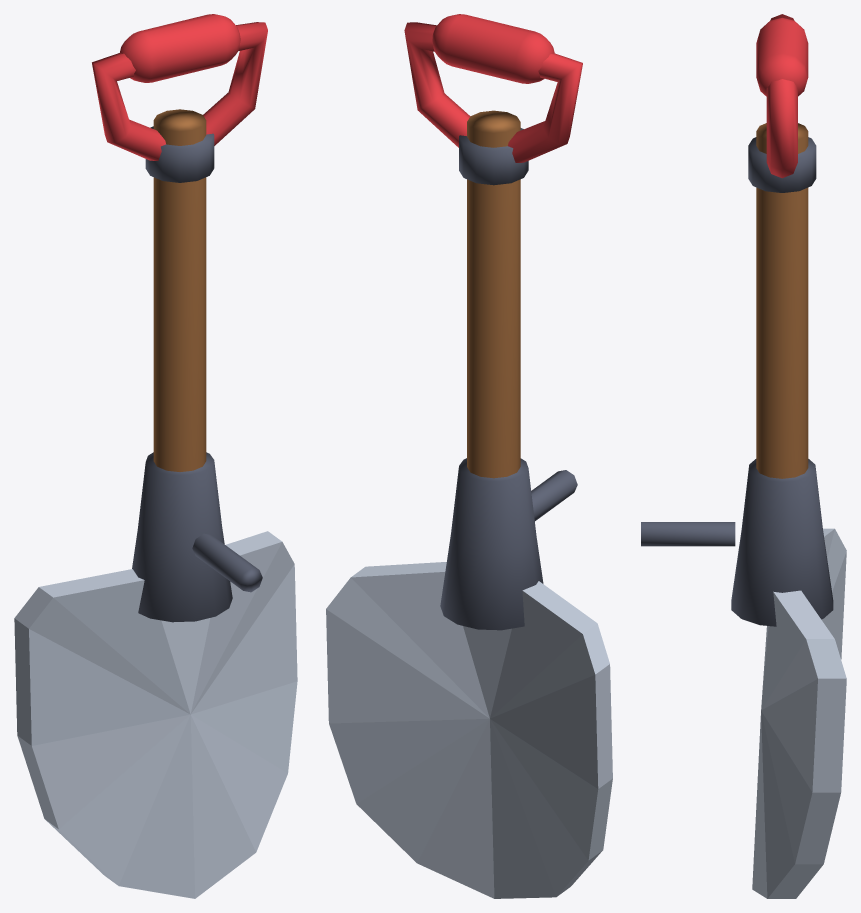
Rendered from SpleefShovel.obj.
3 renders of one model, left to right at view 1: azimuth 30°, elevation 25°; view 2: azimuth 150°, elevation 25°; view 3: azimuth 270°, elevation 25°, orthographic. The views are drawn at different scales.
Parts seen in each view (by area): view 1: Blade, Shaft, Collar, Grip; view 2: Blade, Shaft, Collar, Grip; view 3: Blade, Collar, Shaft, Grip.
Part boxes in pixels (left/top/right/bottom): Blade: left=14, top=531, right=297, bottom=898; Shaft: left=153, top=109, right=206, bottom=471; Collar: left=132, top=126, right=262, bottom=622; Grip: left=92, top=14, right=267, bottom=160; Blade: left=326, top=562, right=612, bottom=898; Shaft: left=467, top=110, right=520, bottom=478; Collar: left=440, top=128, right=577, bottom=630; Grip: left=404, top=14, right=582, bottom=162; Blade: left=752, top=528, right=846, bottom=898; Collar: left=641, top=137, right=833, bottom=626; Shaft: left=756, top=123, right=808, bottom=478; Grip: left=756, top=14, right=808, bottom=178.
Bounding box in the file's own units: 1.16 × 3.6 × 0.7869.
